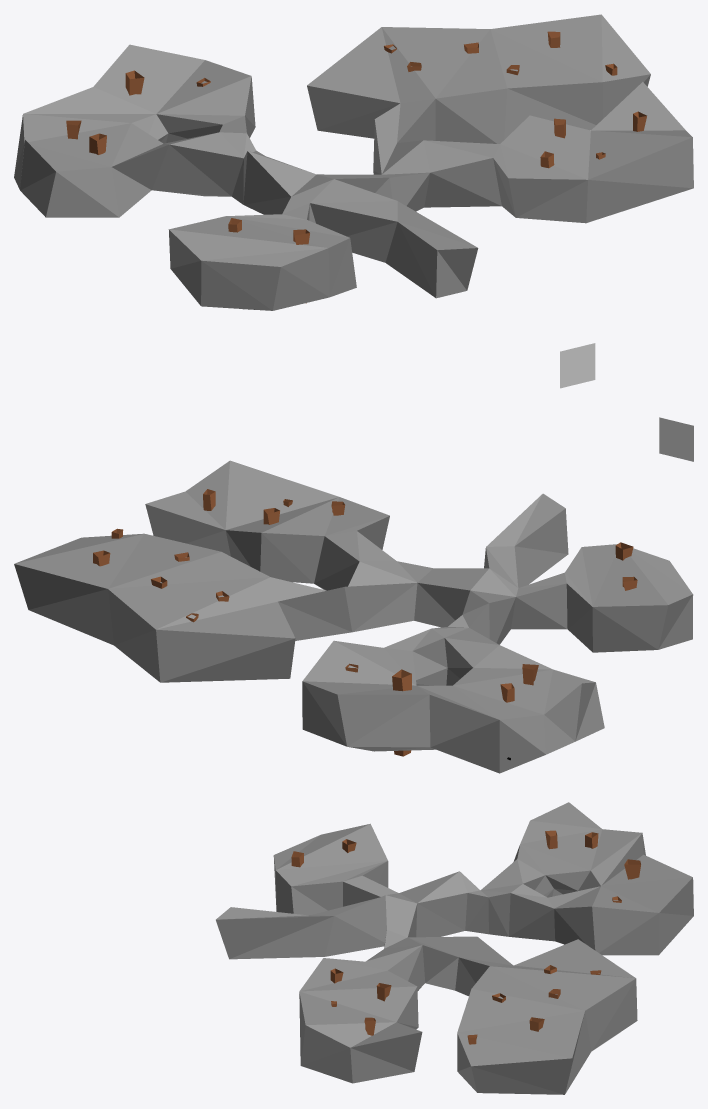
The picture shows the model from 3 angles, top to bottom: view 1: azimuth 30°, elevation 25°; view 2: azimuth 150°, elevation 25°; view 3: azimuth 270°, elevation 25°; orthographic projection. The views are drawn at different scales.
Visible parts, largest first — view 1: M3 Wall, M3 Wall Border; view 2: M3 Wall, M3 Wall Border; view 3: M3 Wall.
Part boxes in pixels (x1,y1,x2,y2): M3 Wall: (14, 14, 693, 310); M3 Wall Border: (560, 343, 595, 388); M3 Wall: (14, 460, 693, 773); M3 Wall Border: (659, 417, 693, 461); M3 Wall: (216, 802, 693, 1094).
Size of what is drawn, in the model's own units: 18717 by 2500 by 22249.
